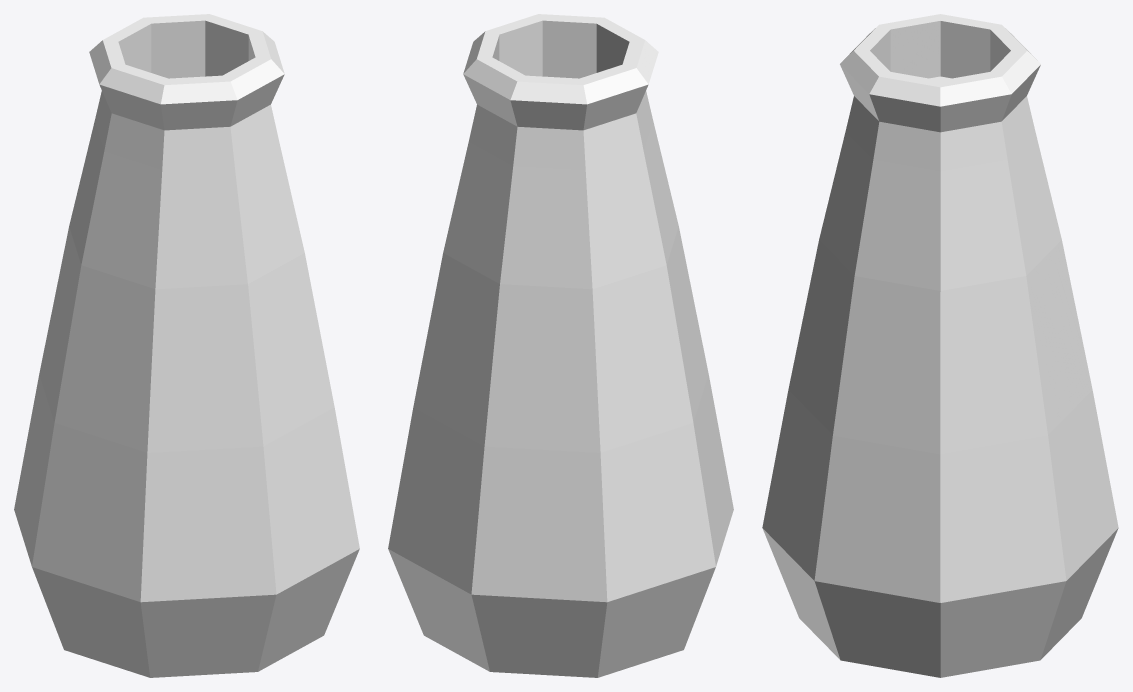
Rendered from PotteryJar_04.fbx.
The picture shows the model from 3 angles, left to right: view 1: azimuth 30°, elevation 25°; view 2: azimuth 150°, elevation 25°; view 3: azimuth 270°, elevation 25°; orthographic projection.
Visible parts, largest first — view 1: PotteryJar_04; view 2: PotteryJar_04; view 3: PotteryJar_04.
Part boxes in pixels (<box>): PotteryJar_04: <box>14,14,359,677</box>; PotteryJar_04: <box>388,14,733,677</box>; PotteryJar_04: <box>762,14,1118,677</box>.
Bounding box in the file's own units: 65.88 × 116 × 65.88.
